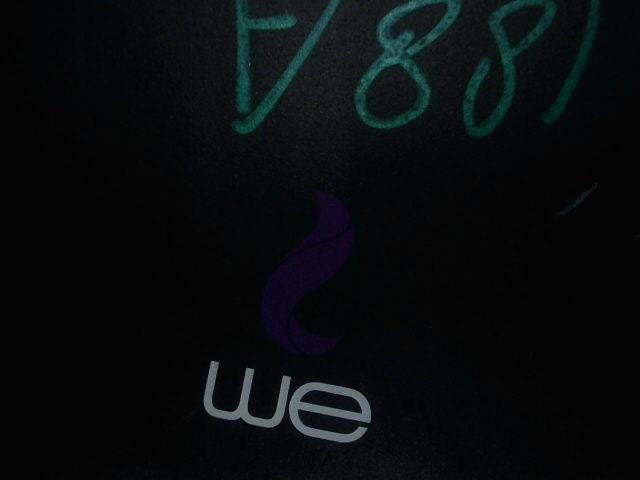AT_We: (187, 183, 390, 443)
